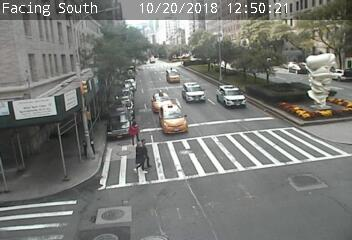car: (160, 105, 188, 133), (217, 85, 246, 108), (183, 81, 205, 102), (153, 93, 173, 111), (166, 69, 181, 83)
